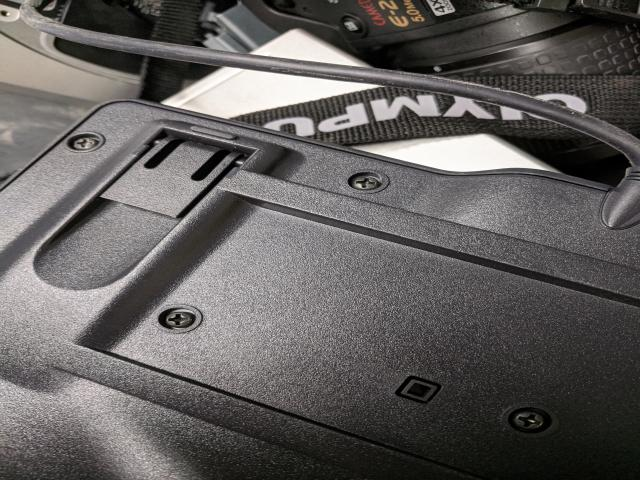CRS: (511, 410, 547, 431), (162, 310, 200, 329), (349, 175, 382, 193), (69, 135, 99, 151)
